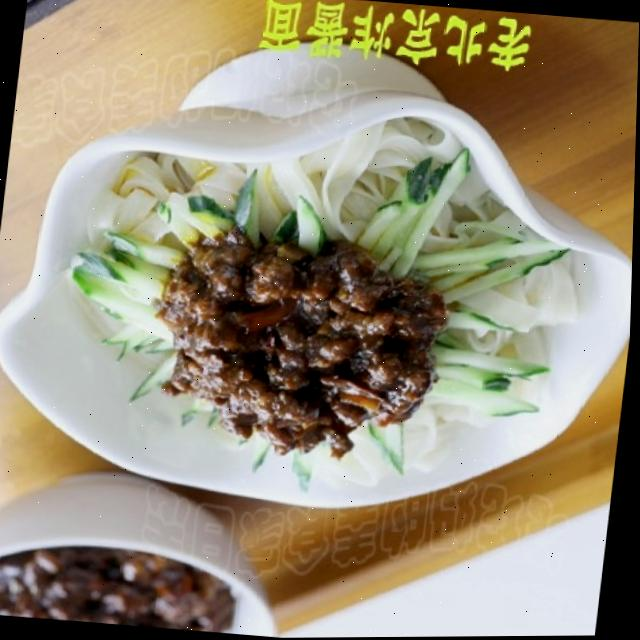面条主食: (10, 43, 627, 557)
